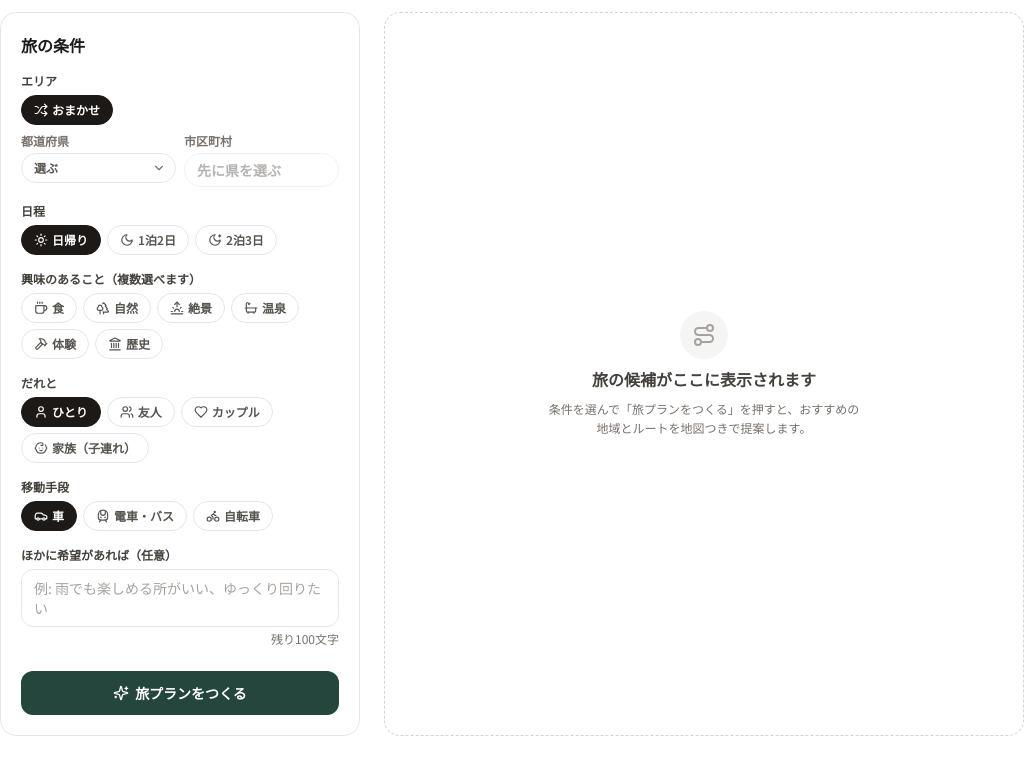
Test: PlannerForm › Gemini で作った候補なら、デモモードの表示を出さない
Step 1. Click the button "旅プランをつくる" → [180, 693], box [21,671,339,715]
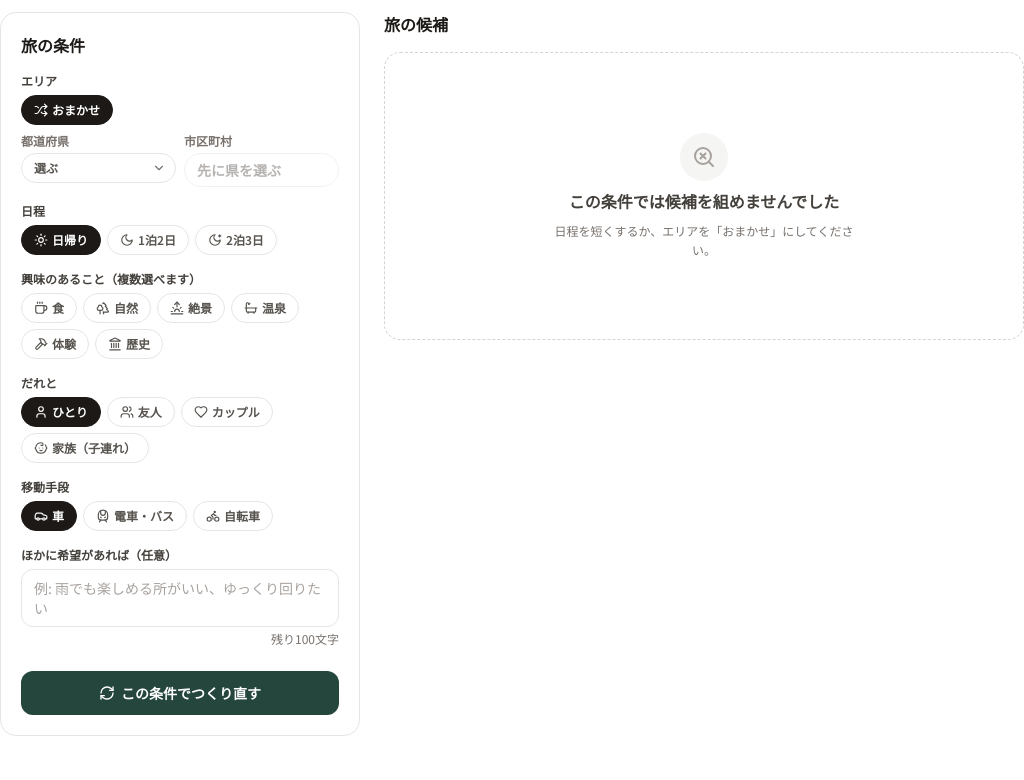
Expected: the text "この条件では候補を組めませんでした" is shown, [569,188,839,212]
